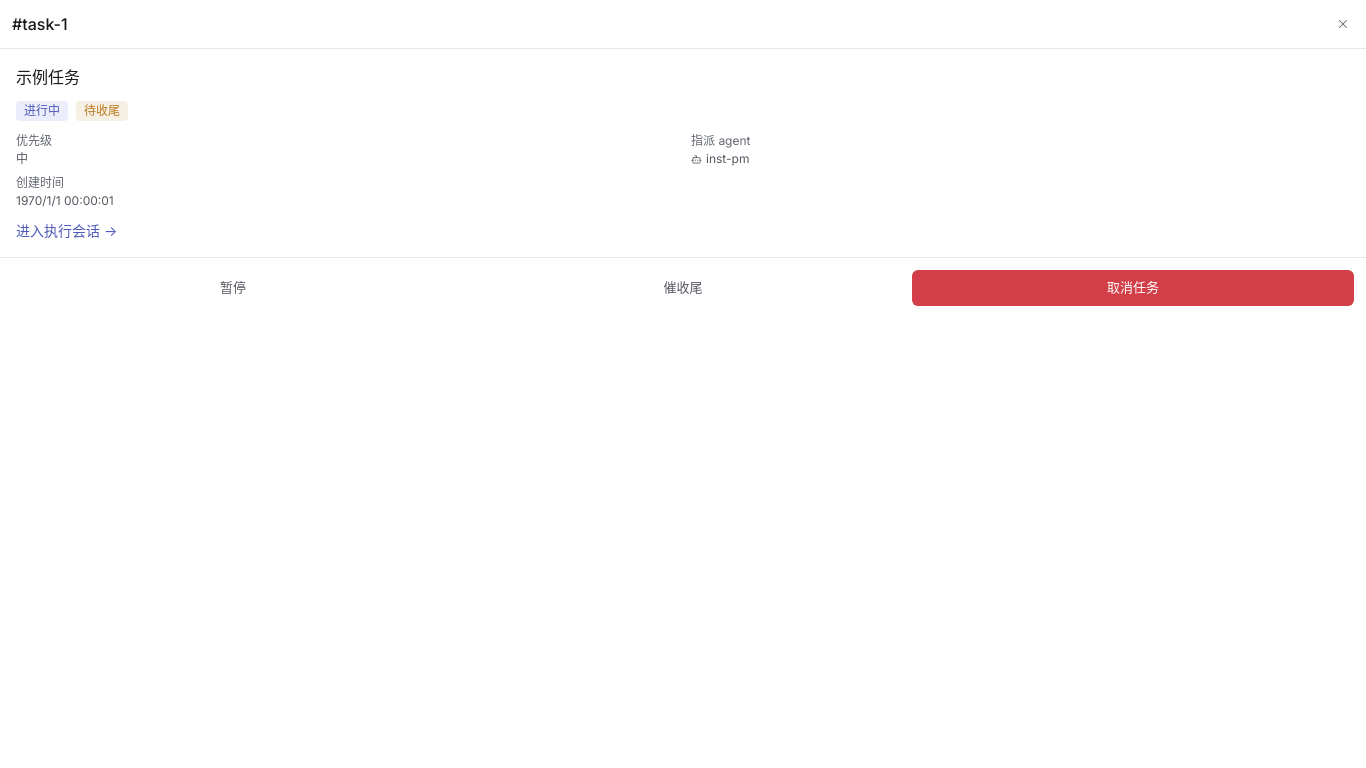
Test: TaskDetailPanel 待收尾徽标与催收尾按钮（spec §3.5/§3.6） › 发送失败 → toast 显示错误（不静默吞异常）
The width and height of the screenshot is (1366, 768).
What coordinates should you click on to do the following:
click the button "催收尾"
I would click on:
 (683, 288)
Its box is [462, 270, 904, 306].
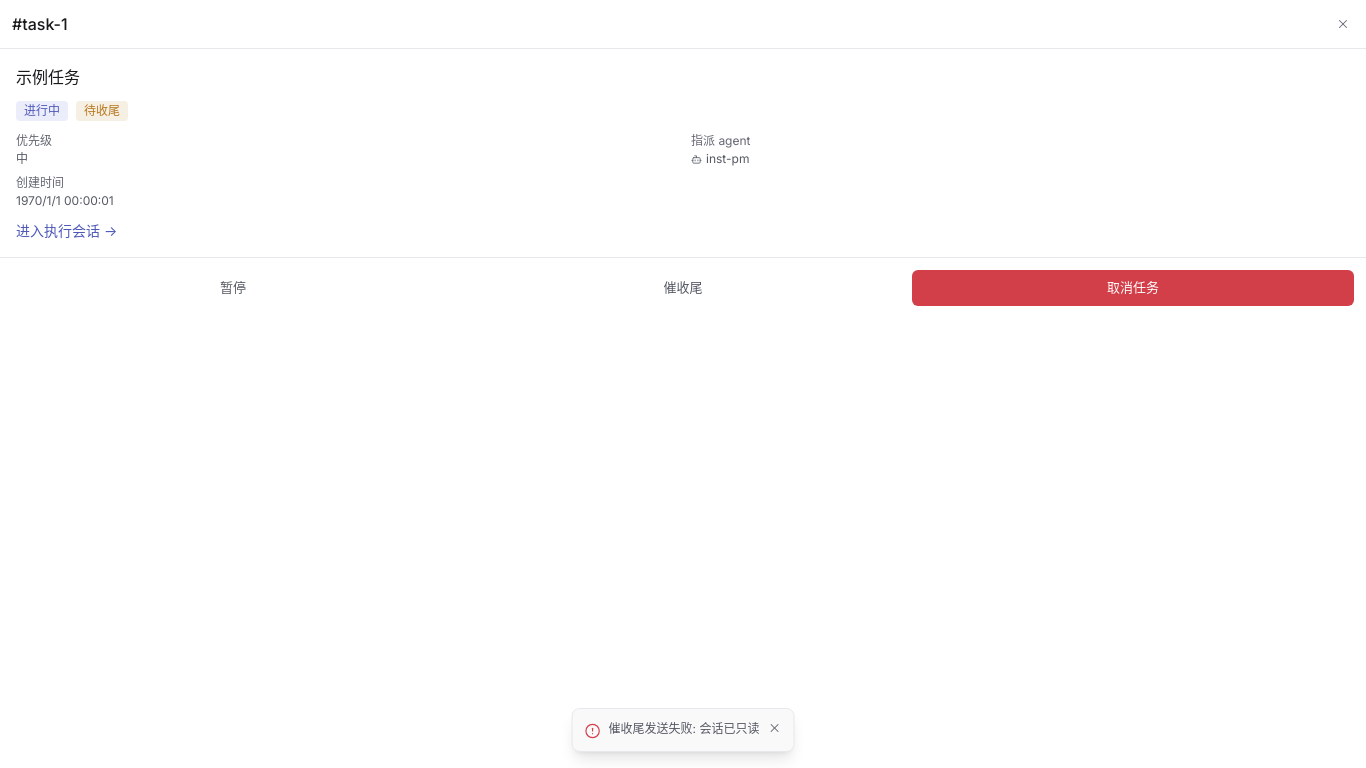
Result: the message with test id "ui-toast" reads "催收尾发送失败: 会话已只读" at [609, 721, 759, 736]
